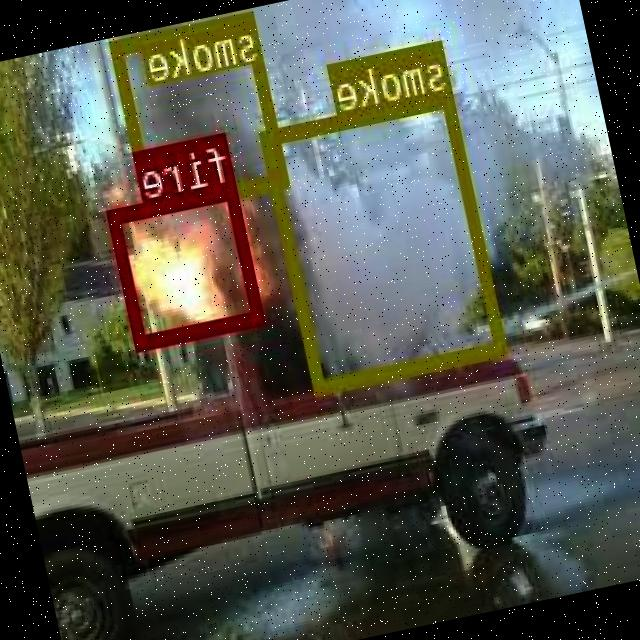fire: (110, 180, 266, 347)
smoke: (261, 88, 508, 390), (113, 9, 290, 212)
